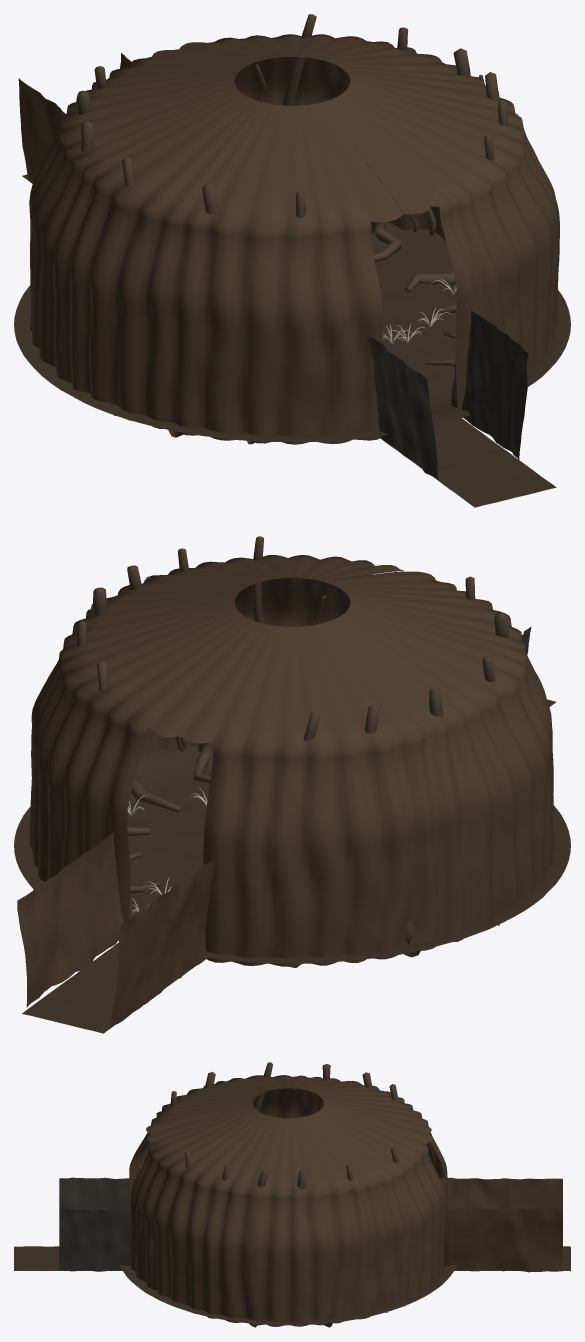
File: set_chamber.glb
3 views of the same model, one above another, from view 1: azimuth 30°, elevation 25°; view 2: azimuth 150°, elevation 25°; view 3: azimuth 270°, elevation 25° (orthographic). The views are drawn at different scales.
Parts seen in each view (by area): view 1: Bark, Floor, Roots; view 2: Bark, Floor, Roots; view 3: Bark, Floor, Roots.
Boxes of the visible parts, <box> form: Bark: <box>18,34,559,479</box>; Floor: <box>14,174,570,507</box>; Roots: <box>77,14,518,444</box>; Bark: <box>17,555,554,1027</box>; Floor: <box>14,699,570,1033</box>; Roots: <box>76,536,508,967</box>; Bark: <box>59,1075,562,1326</box>; Floor: <box>14,1246,570,1325</box>; Roots: <box>138,1062,399,1327</box>.
Bounding box in the file's own units: 21.2 × 10.99 × 34.5.
